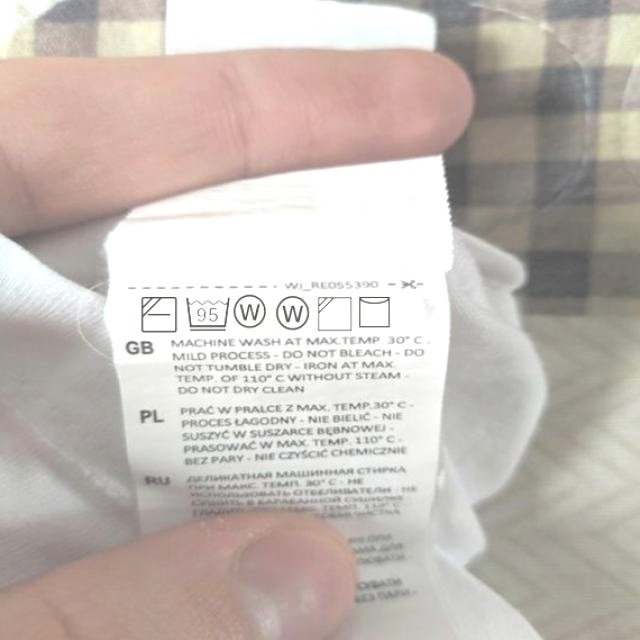95C: (184, 294, 232, 332)
dry_flat_in_shade: (139, 293, 178, 335)
line_dry: (356, 292, 395, 330)
shade_dry: (316, 294, 354, 333)
wet_clean: (275, 294, 311, 333), (234, 290, 269, 330)
